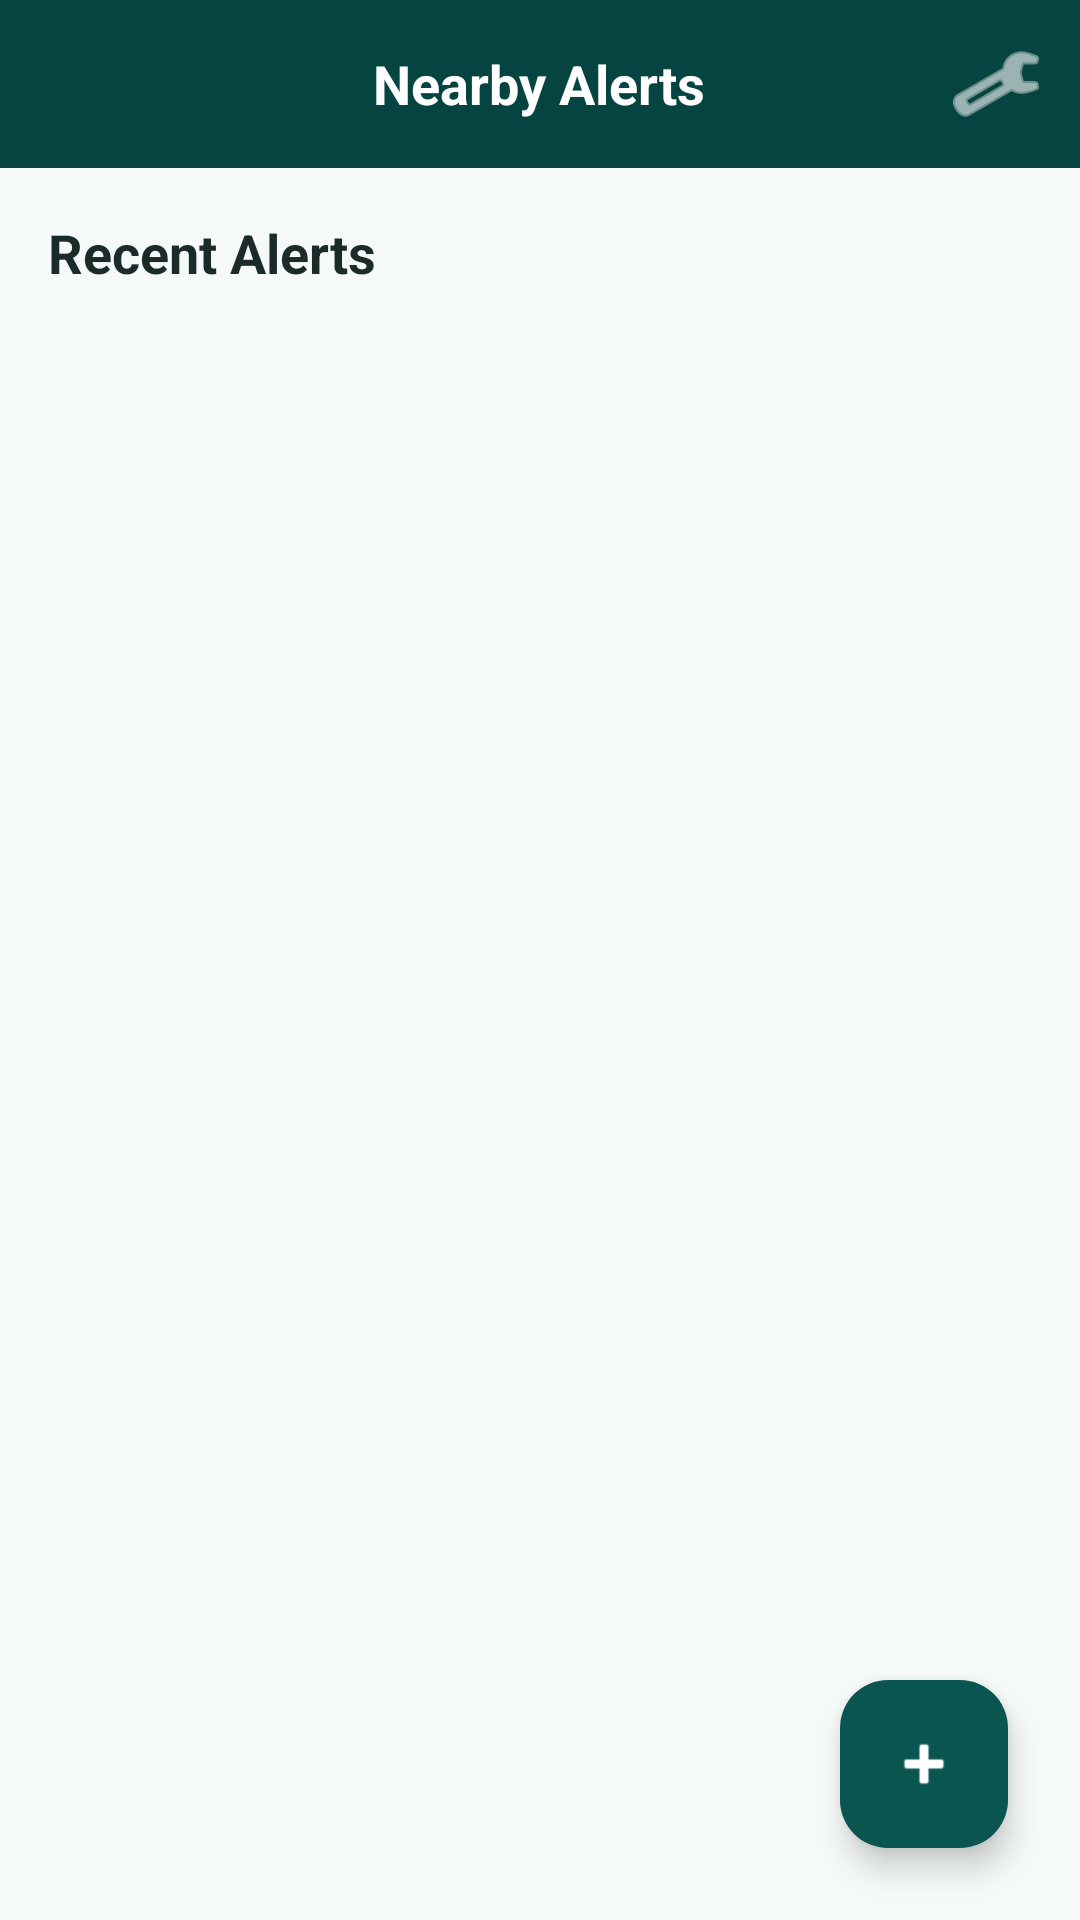

Icons on this 1080 × 1920 Android screen, each with its box as (x1, y1, x2, y2):
Settings: (953, 51, 1039, 117)
